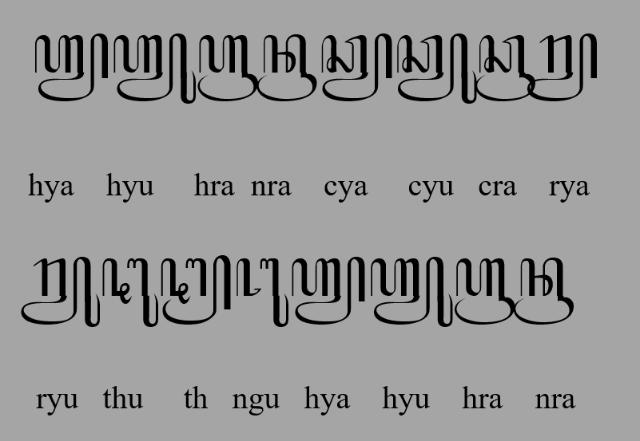-th: (160, 255, 232, 327)
cr: (474, 34, 536, 102)
cy: (321, 32, 393, 102)
cyu: (397, 33, 478, 105)
hr: (198, 34, 258, 102), (455, 258, 515, 326)
hy: (292, 256, 366, 328), (35, 33, 109, 102)
hyu: (112, 33, 198, 105), (370, 257, 454, 329)
ngu: (235, 258, 289, 328)
nr: (257, 33, 317, 102), (514, 258, 574, 326)
ry: (528, 32, 598, 102)
ryu: (21, 256, 101, 328)
thu: (102, 258, 158, 328)
